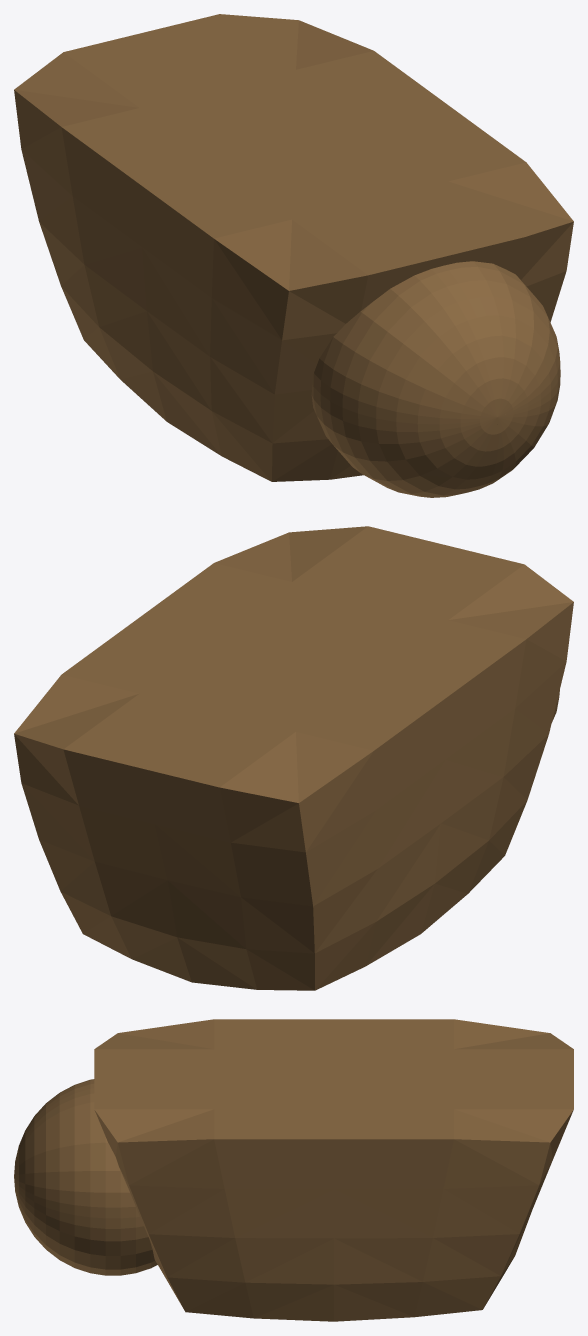
Rendered from LeftFingerJoint32y_joint_visu.dae.
3 renders of one model, top to bottom at view 1: azimuth 30°, elevation 25°; view 2: azimuth 150°, elevation 25°; view 3: azimuth 270°, elevation 25°, orthographic. The views are drawn at different scales.
Parts seen in each view (by area): view 1: node; view 2: node; view 3: node.
Boxes of the visible parts, <box> form: node: <box>14,14,573,497</box>; node: <box>14,526,573,990</box>; node: <box>14,1019,573,1321</box>.
Bounding box in the file's own units: 0.0109 × 0.00867 × 0.0214.
